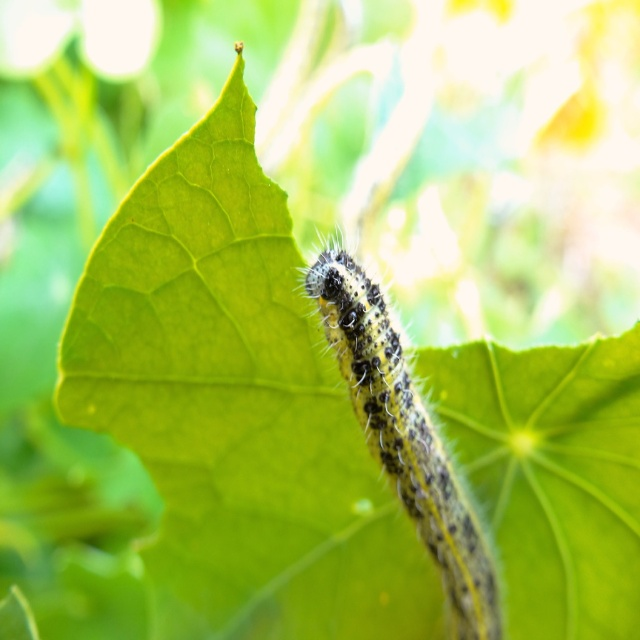Caterpillar: (287, 217, 501, 639)
